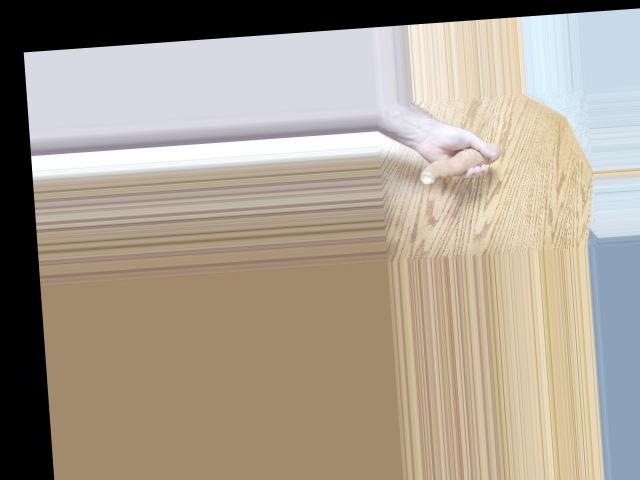sweet_potato: (413, 143, 506, 184)
